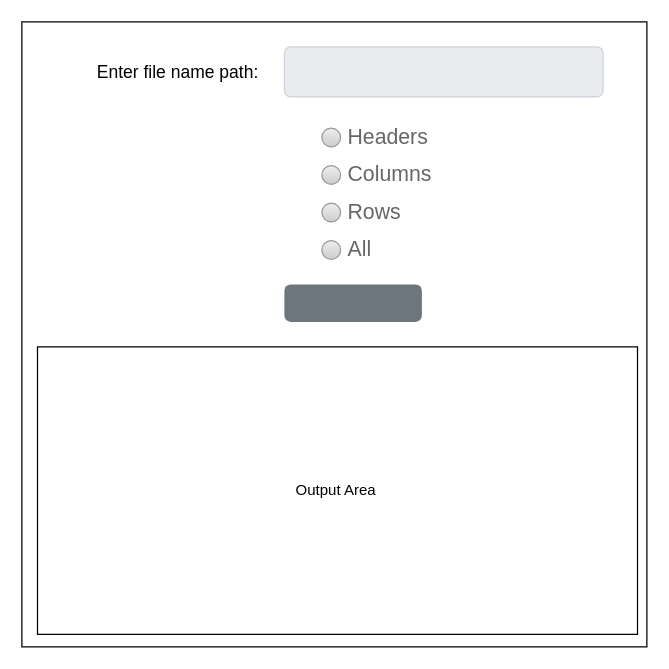
The diagram is 669 pixels wide and 669 high, and some of its shapes have lost their labels. Each missing label, with the box of its shape:
Get: (284, 284, 421, 321)
Placeholder Text: (283, 46, 603, 97)
